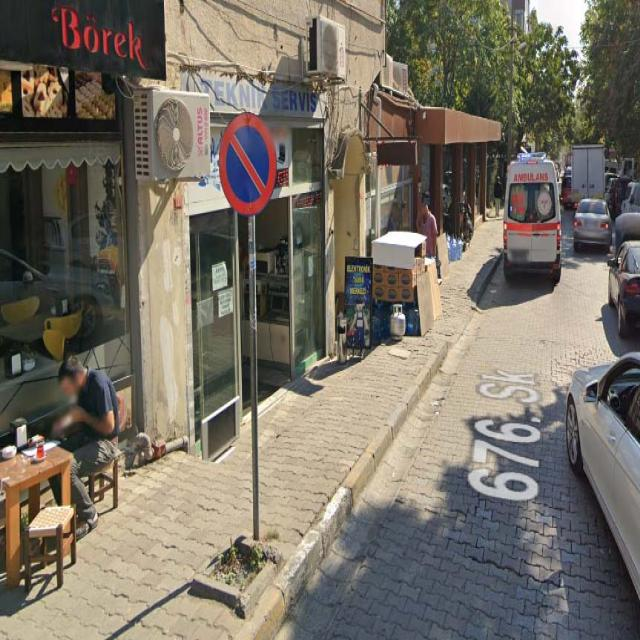parkyasak: (219, 112, 275, 214)
